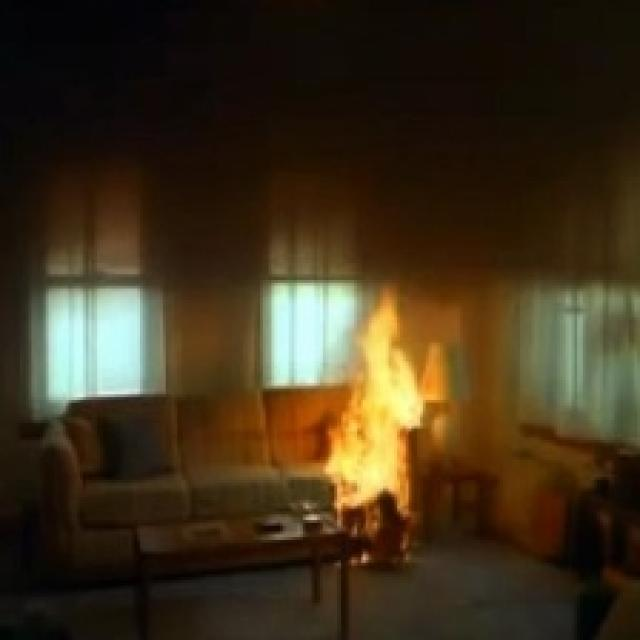Fire: (326, 294, 422, 500)
